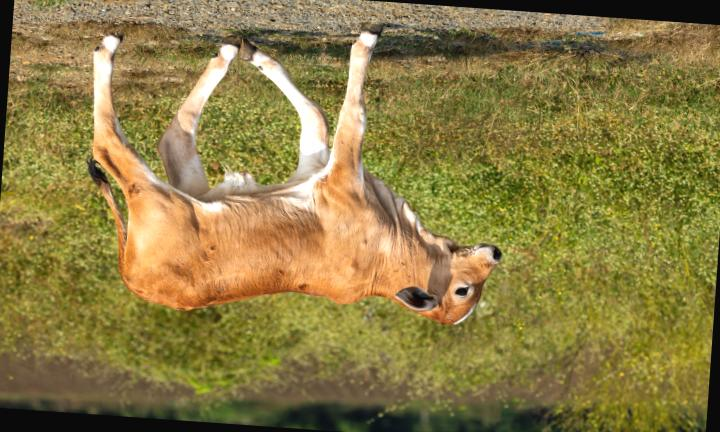Brahman: (89, 23, 501, 324)
